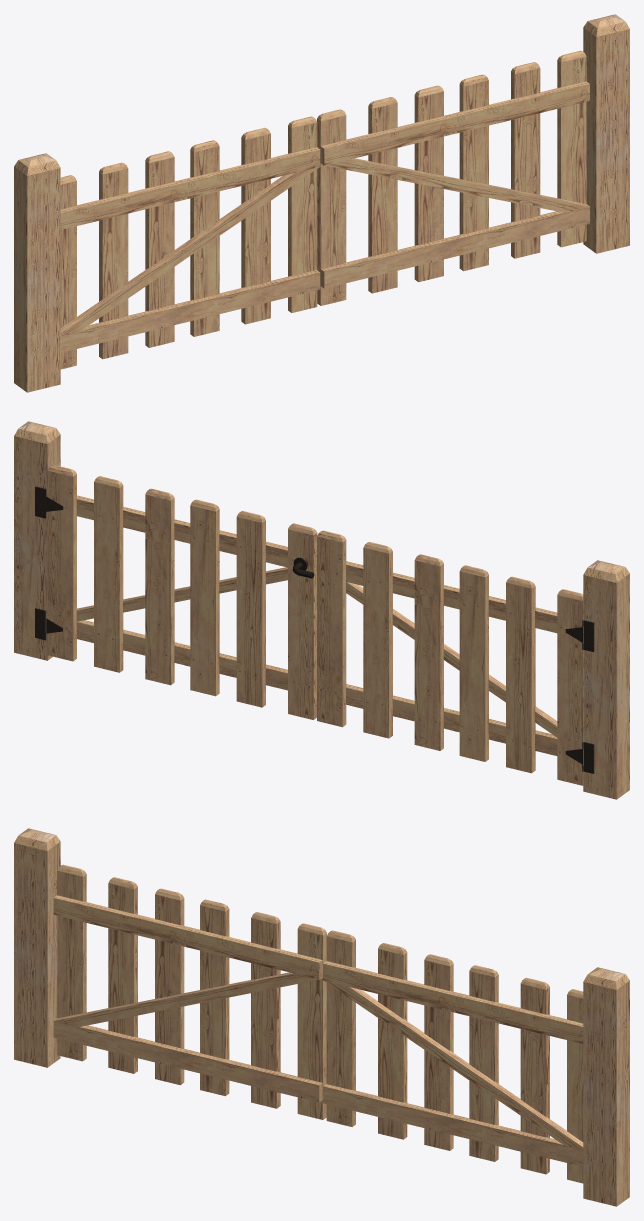
Rendered from Gate.fbx.
3 views of the same model, one above another, from view 1: azimuth 30°, elevation 25°; view 2: azimuth 150°, elevation 25°; view 3: azimuth 330°, elevation 25° (orthographic).
Visible parts, largest first — view 1: Fence_Door_A, Fence_Door_B, Fence_Door_Pilar.001, Fence_Door_Pilar; view 2: Fence_Door_A, Fence_Door_B, Fence_Door_Pilar.001, Fence_Door_Pilar, Fence_Door_Mechanism, Fence_Door_Mechanism.001, Fence_Door_Mechanism.002; view 3: Fence_Door_B, Fence_Door_A, Fence_Door_Pilar, Fence_Door_Pilar.001.
Boxes of the visible parts, x1,y1,x2,y2 form: Fence_Door_A: (317,50,589,305); Fence_Door_B: (60,116,320,369); Fence_Door_Pilar.001: (14,153,60,392); Fence_Door_Pilar: (583,14,629,253); Fence_Door_A: (47,465,317,719); Fence_Door_B: (317,530,583,785); Fence_Door_Pilar.001: (583,560,629,799); Fence_Door_Pilar: (14,421,60,660); Fence_Door_Mechanism: (565,620,594,651); Fence_Door_Mechanism.001: (565,742,594,773); Fence_Door_Mechanism.002: (35,486,63,518); Fence_Door_B: (53,864,326,1119); Fence_Door_A: (323,930,583,1183); Fence_Door_Pilar: (583,967,629,1206); Fence_Door_Pilar.001: (14,828,60,1067).
Size of the model in its own units: 547 by 196 by 36.49.
Materials: 5 (5 with a texture image).
